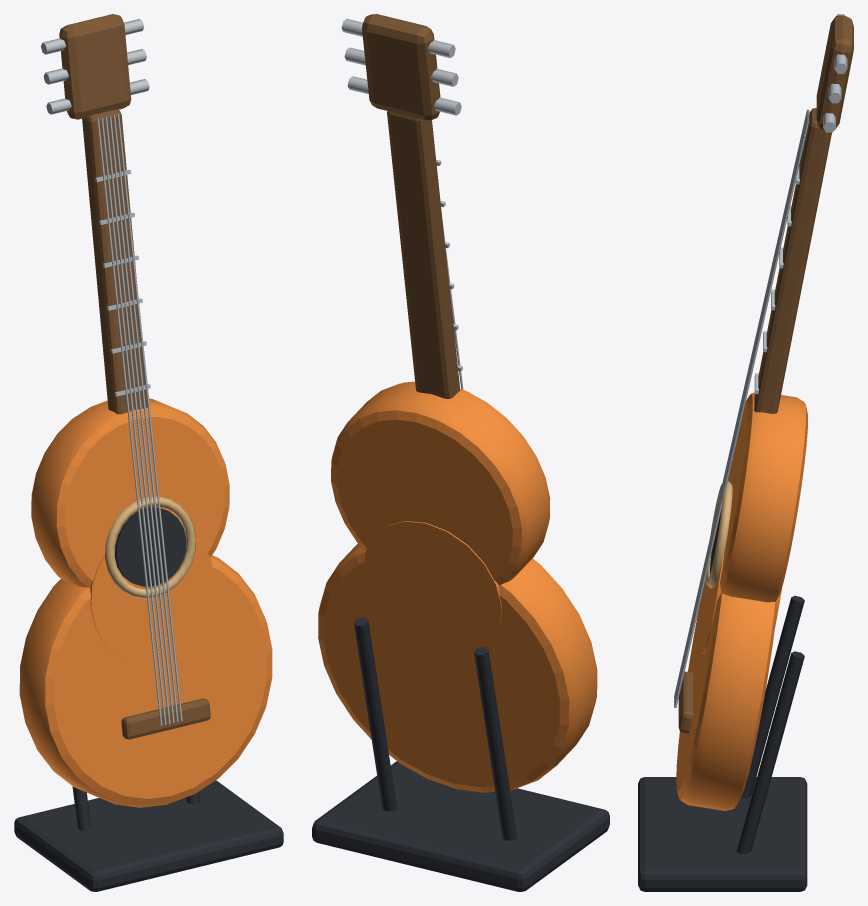
The model's file is guitarra.glb.
The picture shows the model from 3 angles, left to right: view 1: azimuth 30°, elevation 25°; view 2: azimuth 150°, elevation 25°; view 3: azimuth 270°, elevation 25°; orthographic projection. The views are drawn at different scales.
Parts seen in each view (by area): view 1: guitarra; view 2: guitarra; view 3: guitarra.
Part boxes in pixels (left/top/right/bottom): guitarra: left=14, top=14, right=283, bottom=891; guitarra: left=312, top=14, right=609, bottom=891; guitarra: left=638, top=14, right=853, bottom=891.
Bounding box in the file's own units: 0.6 × 1.92 × 0.4593.
